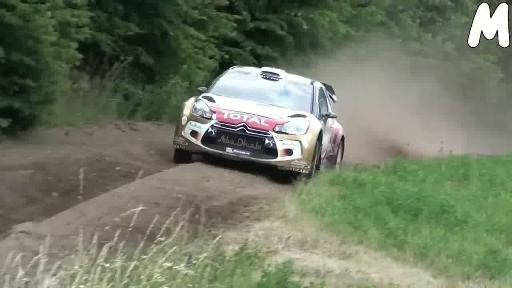CAR: (185, 35, 356, 186)
